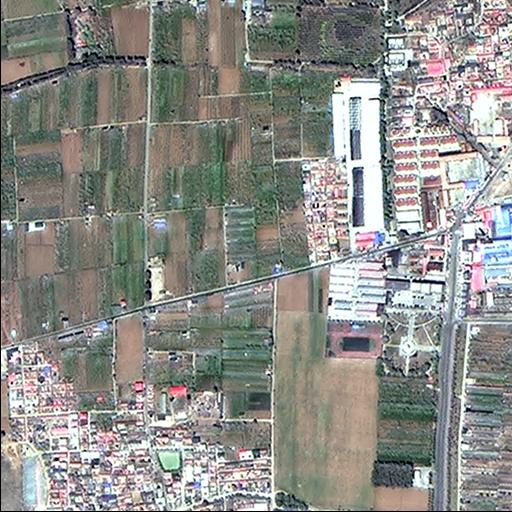school: (322, 256, 388, 361)
